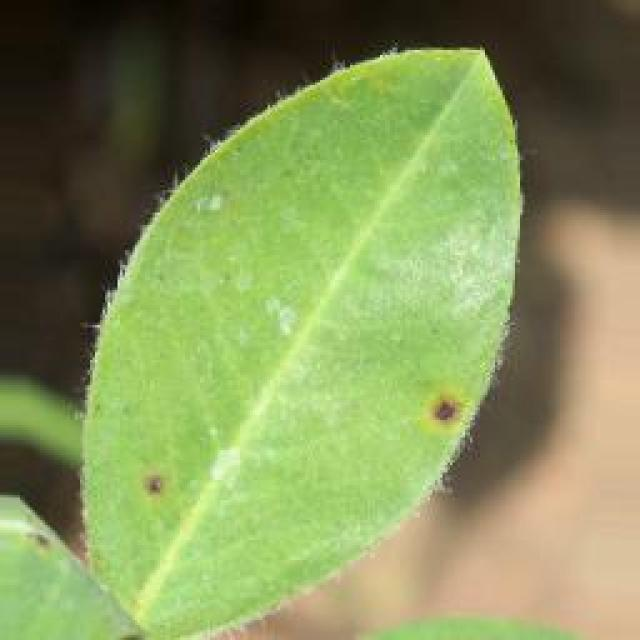Sigatoka: (130, 446, 187, 530), (14, 497, 69, 568), (420, 376, 467, 454)
